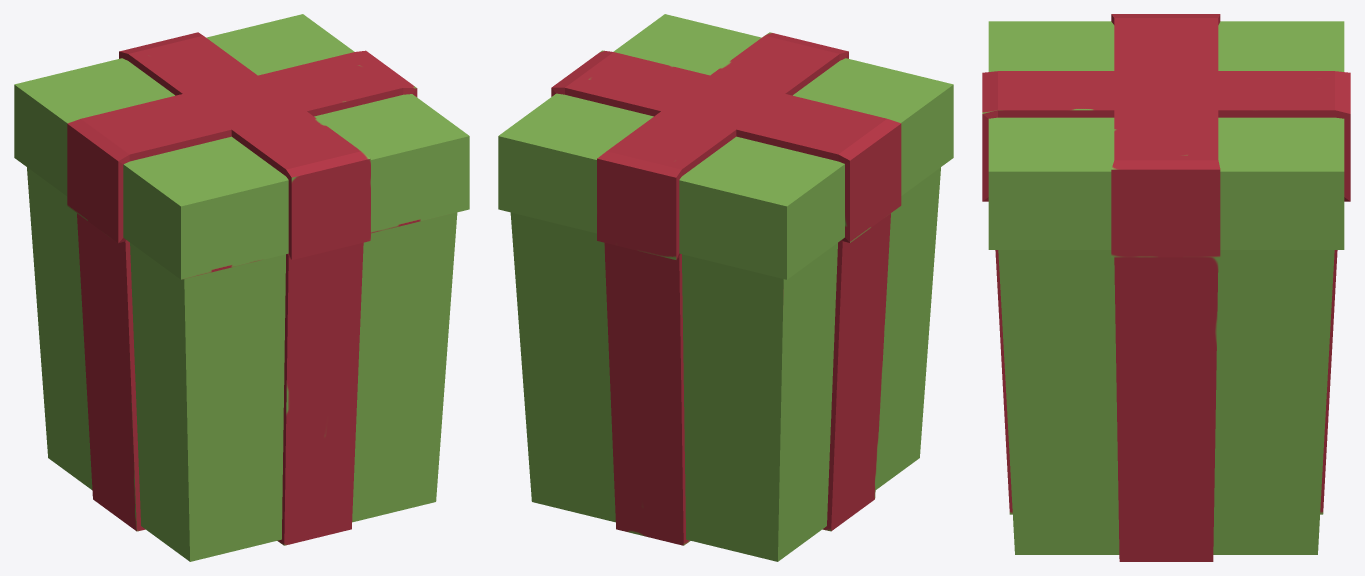
Rendered from GiftBox_2.fbx.
3 views of the same model, side by side, from view 1: azimuth 30°, elevation 25°; view 2: azimuth 150°, elevation 25°; view 3: azimuth 270°, elevation 25° (orthographic). The views are drawn at different scales.
Visible parts, largest first — view 1: Giftbox two; view 2: Giftbox two; view 3: Giftbox two.
Boxes of the visible parts, x1,y1,x2,y2 form: Giftbox two: (14, 14, 469, 561); Giftbox two: (498, 14, 953, 561); Giftbox two: (982, 14, 1350, 561).
Bounding box in the file's own units: 197 × 241 × 197.
